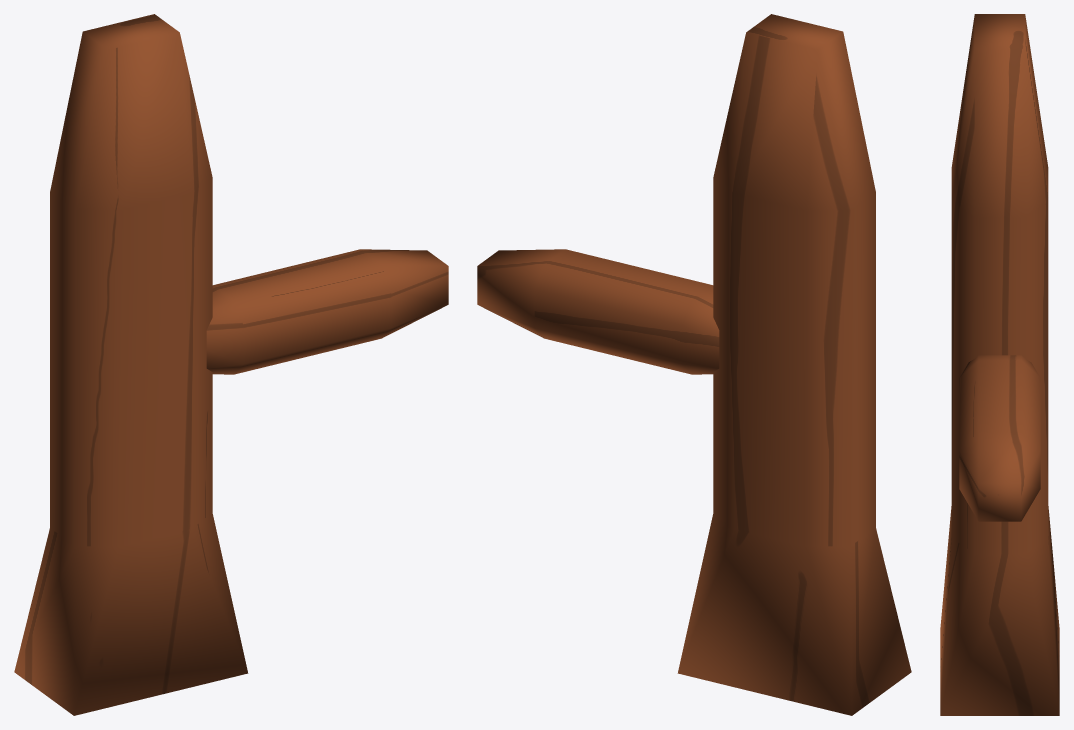
Rendered from cercaÚNICA.fbx.
The picture shows the model from 3 angles, left to right: view 1: azimuth 30°, elevation 25°; view 2: azimuth 150°, elevation 25°; view 3: azimuth 270°, elevation 25°; orthographic projection.
Parts seen in each view (by area): view 1: Cube.005; view 2: Cube.005; view 3: Cube.005.
Boxes of the visible parts, box(x1,y1,x2,y2) form: Cube.005: box(14, 14, 448, 715); Cube.005: box(477, 14, 911, 715); Cube.005: box(940, 14, 1059, 715).
Size of the model in its own units: 129 by 200 by 33.79.
